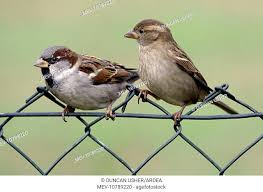home_sparrow: (120, 14, 244, 120), (29, 45, 141, 126)
